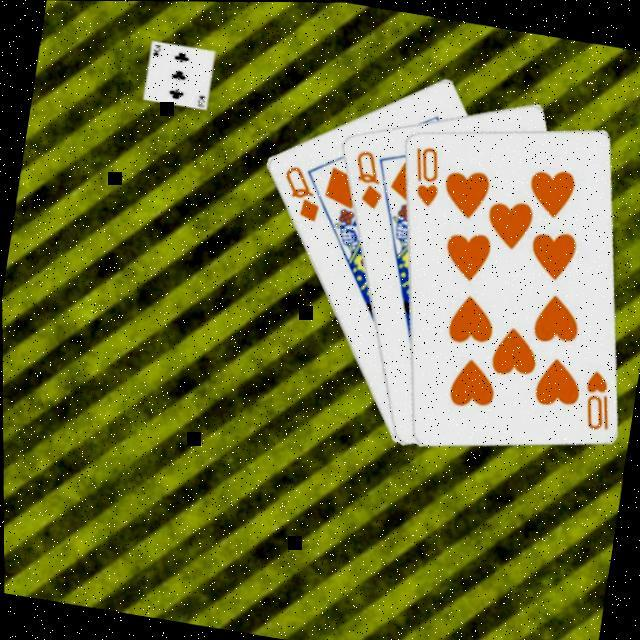10H: (402, 140, 447, 210), (574, 362, 618, 432)
QD: (272, 159, 326, 224), (344, 143, 389, 212)
